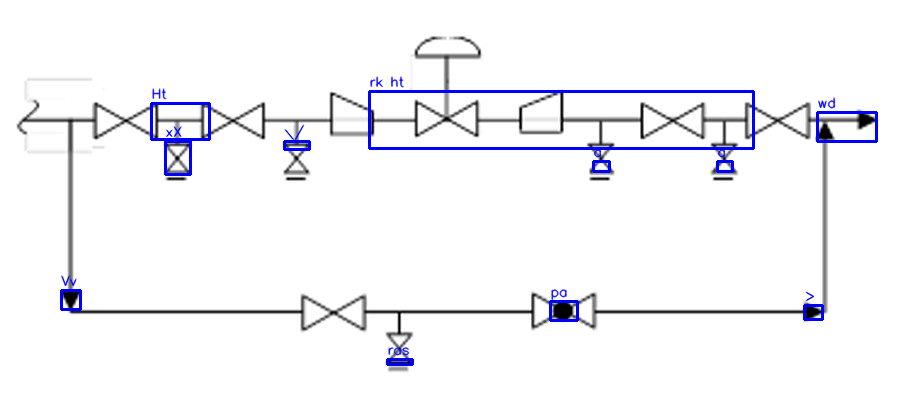Válvula: (409, 23, 482, 142), (197, 97, 270, 146), (525, 287, 601, 333), (636, 96, 708, 143), (85, 99, 163, 142), (741, 97, 815, 142), (296, 291, 369, 335)
